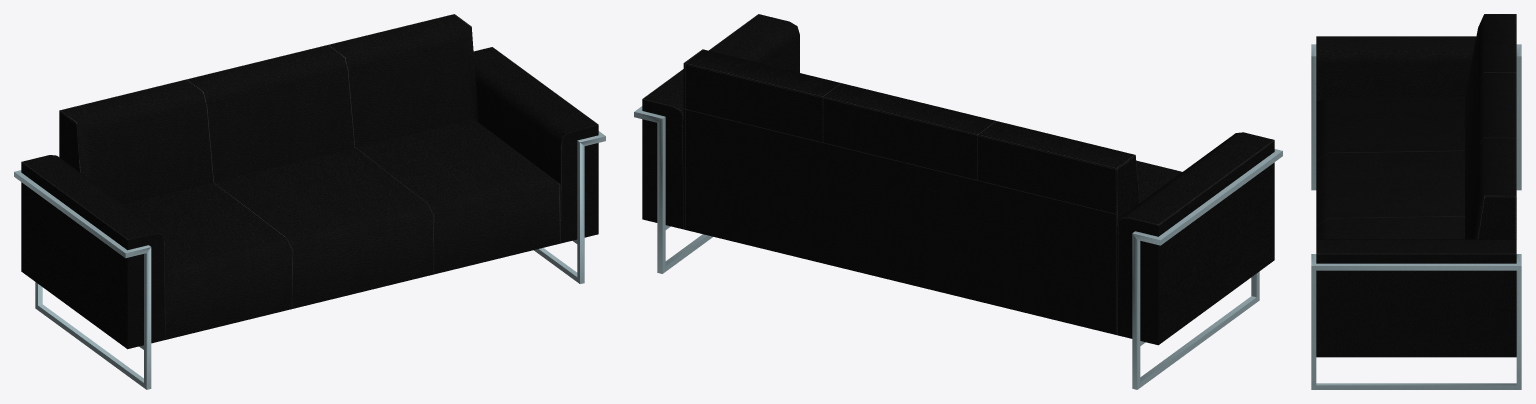
The model's file is Sofa.FBX.
3 renders of one model, left to right at view 1: azimuth 30°, elevation 25°; view 2: azimuth 150°, elevation 25°; view 3: azimuth 270°, elevation 25°, orthographic. The views are drawn at different scales.
Visible parts, largest first — view 1: Sofa; view 2: Sofa; view 3: Sofa.
Boxes of the visible parts, x1,y1,x2,y2 form: Sofa: (14, 14, 605, 389); Sofa: (634, 14, 1282, 389); Sofa: (1311, 14, 1521, 389).
Size of the model in its own units: 2040 by 790 by 820.
